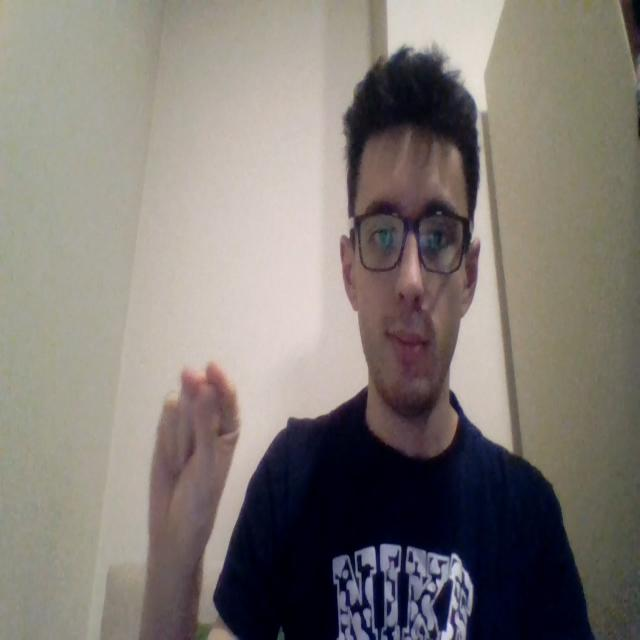no: (138, 359, 242, 638)
